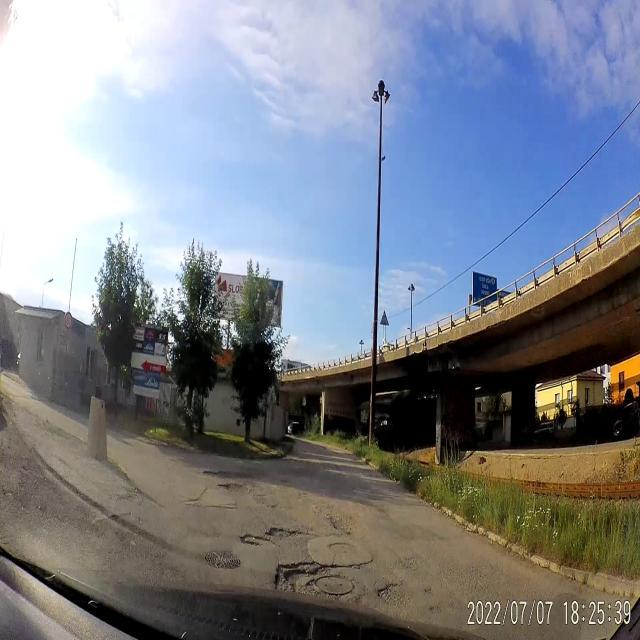Manhole: (200, 540, 242, 572), (310, 570, 352, 596), (330, 541, 360, 556)
Pothole: (236, 522, 306, 548), (272, 559, 313, 592), (375, 582, 410, 608), (202, 462, 250, 480), (216, 480, 244, 493), (428, 606, 443, 616), (424, 584, 434, 598)
